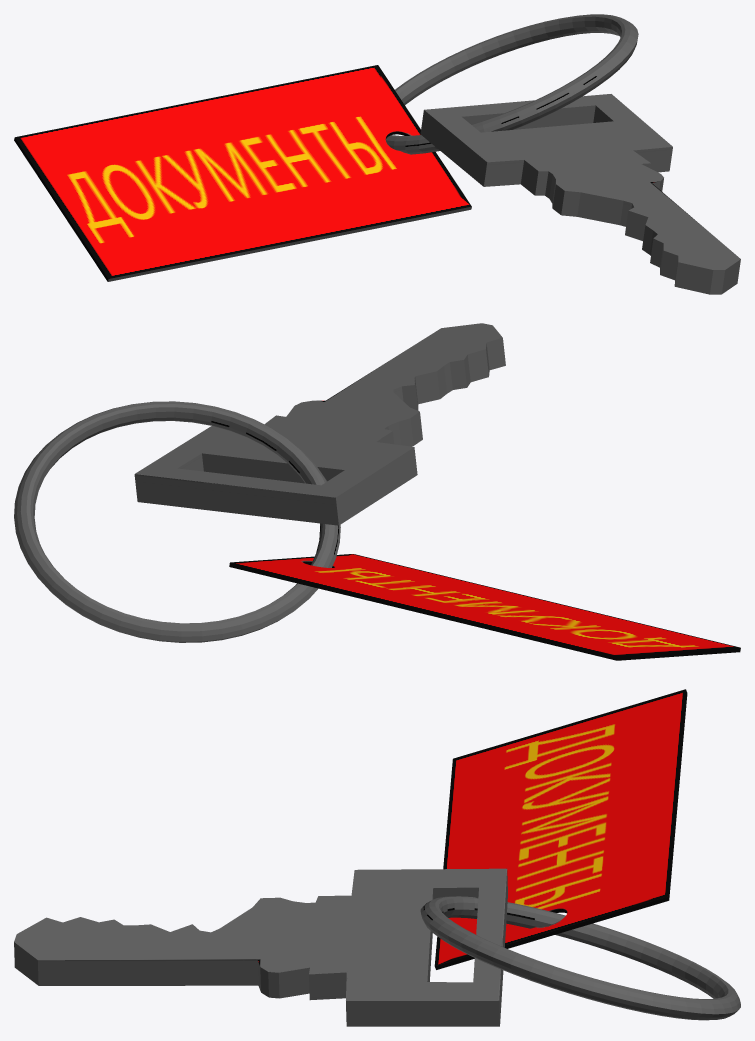
The model's file is key.fbx.
The picture shows the model from 3 angles, top to bottom: view 1: azimuth 30°, elevation 25°; view 2: azimuth 150°, elevation 25°; view 3: azimuth 270°, elevation 25°; orthographic projection. The views are drawn at different scales.
Visible parts, largest first — view 1: Plane, Cube, Torus; view 2: Cube, Plane, Torus; view 3: Cube, Plane, Torus.
Part boxes in pixels (x1,y1,x2,y2): Plane: (14,65,471,281); Cube: (420,94,740,294); Torus: (385,14,638,154); Cube: (134,323,505,525); Plane: (229,554,740,660); Torus: (14,401,340,642); Cube: (14,868,507,1026); Plane: (434,689,687,969); Torus: (420,896,740,1020).
Size of the model in its own units: 6.16 by 1.14 by 5.94.
